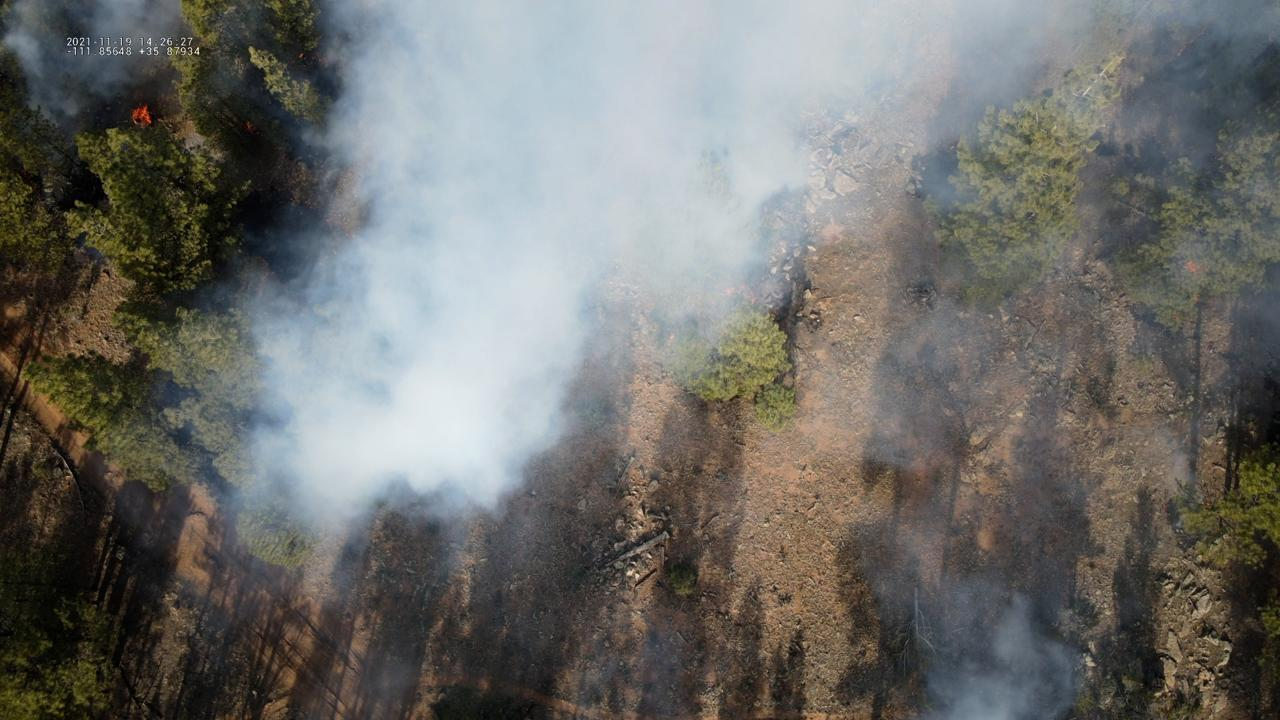fire: (126, 103, 153, 128), (1183, 259, 1201, 274), (245, 121, 259, 135), (297, 50, 305, 61)
smoke: (0, 0, 1280, 557), (874, 569, 1085, 720)
